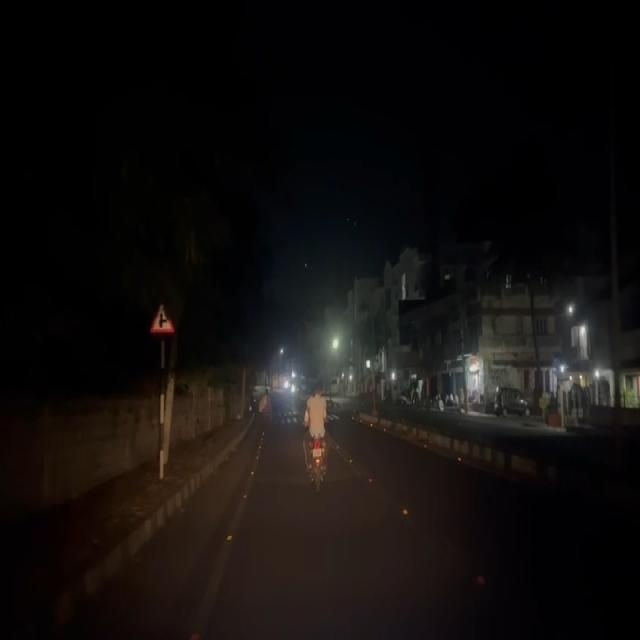bien_nguy_hiem: (150, 297, 175, 338)
